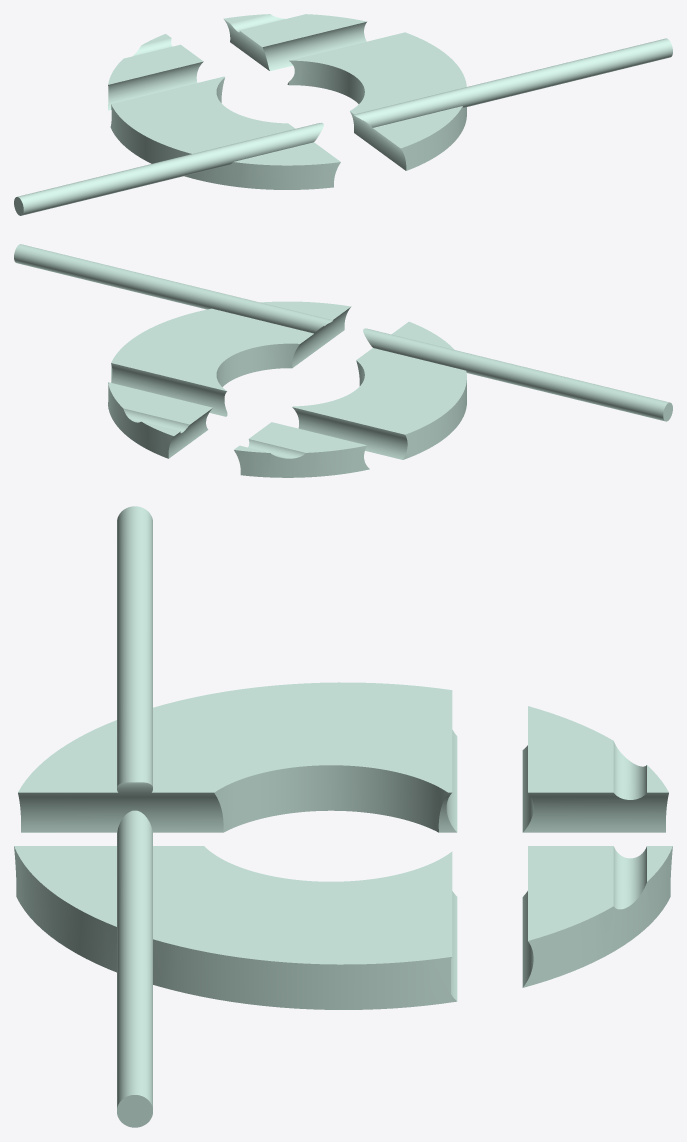
3 views of the same model, one above another, from view 1: azimuth 30°, elevation 25°; view 2: azimuth 150°, elevation 25°; view 3: azimuth 270°, elevation 25° (orthographic). The views are drawn at different scales.
Parts seen in each view (by area): view 1: Renderer Node; view 2: Renderer Node; view 3: Renderer Node.
Part boxes in pixels (x1,y1,x2,y2): Renderer Node: [14, 14, 672, 215]; Renderer Node: [14, 244, 672, 477]; Renderer Node: [14, 506, 672, 1127].
Bounding box in the file's own units: 1.52 × 0.0822 × 0.7171.
